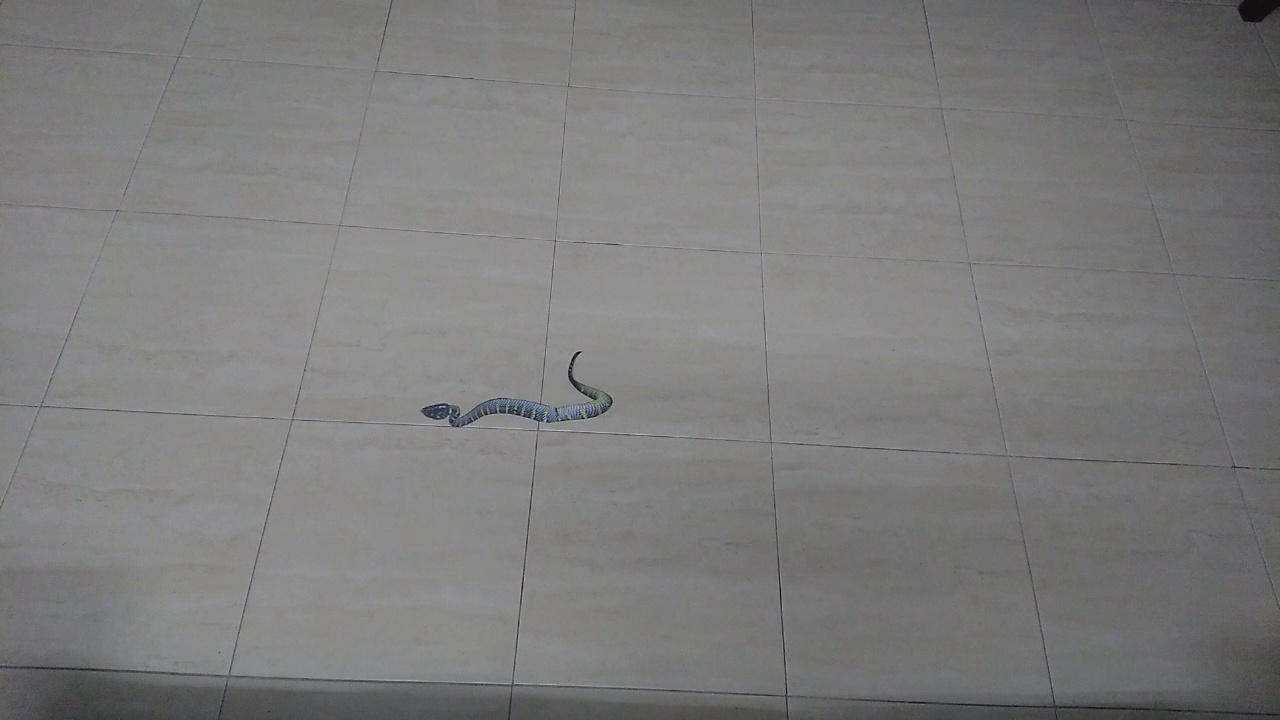snake: (403, 335, 634, 440)
